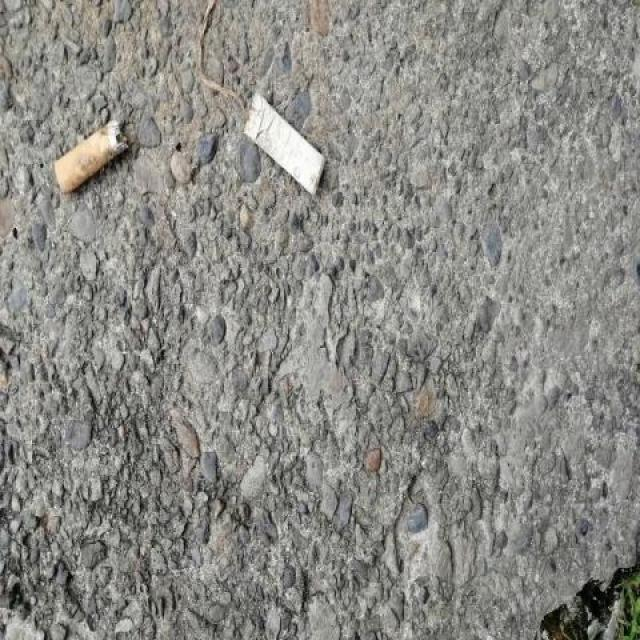non-organic waste: (238, 86, 331, 198), (51, 112, 132, 195)
